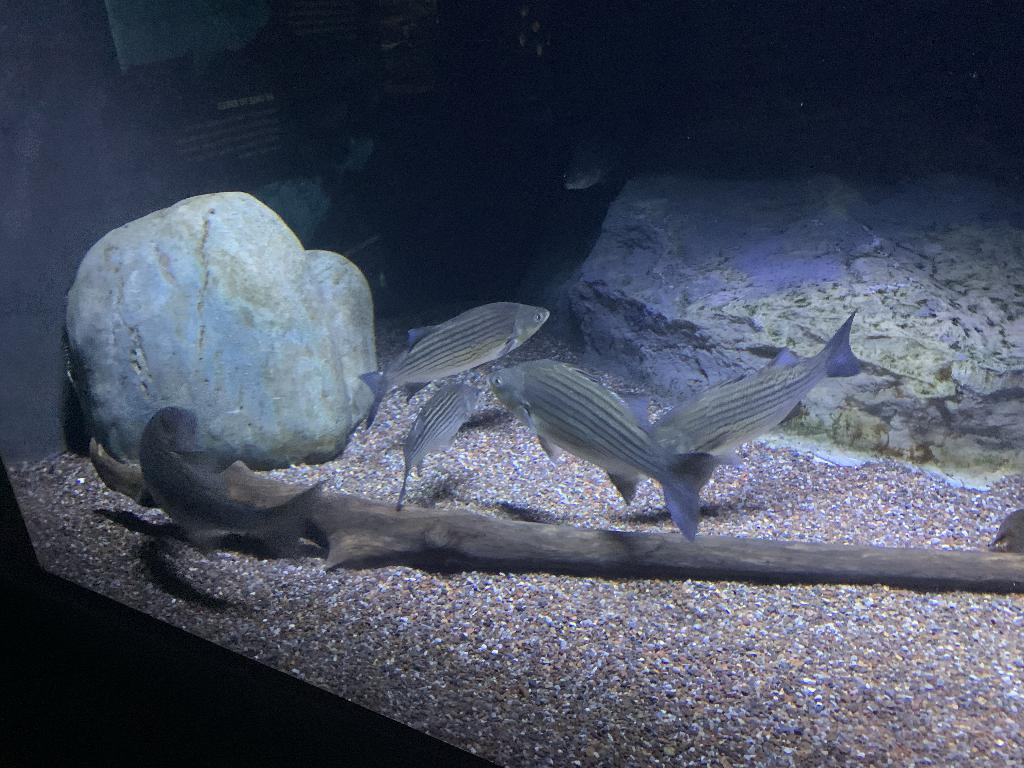fish: (486, 356, 734, 546), (640, 306, 872, 470), (132, 404, 332, 564), (354, 298, 552, 434), (394, 383, 484, 514), (562, 126, 628, 192)
